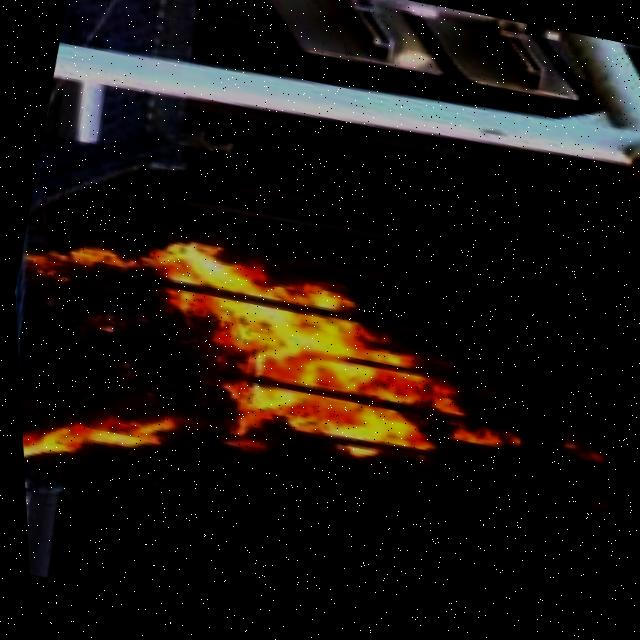Fire: (9, 199, 558, 587)
